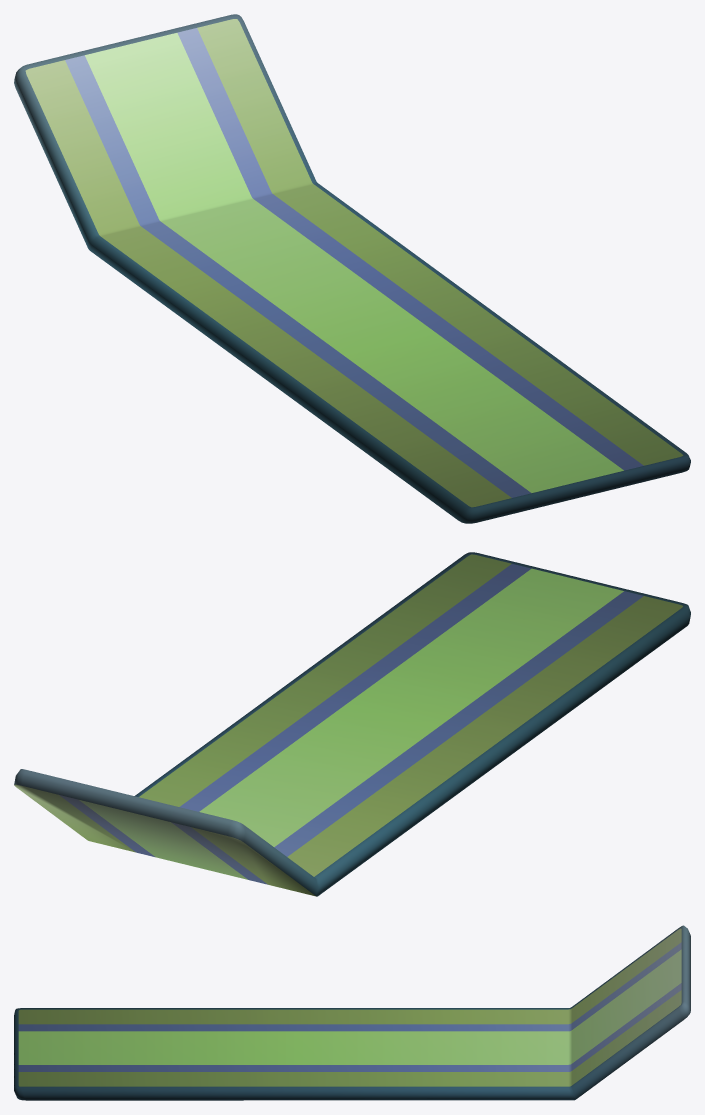
The model's file is SunLounger_MattressStripes_A.fbx.
3 views of the same model, one above another, from view 1: azimuth 30°, elevation 25°; view 2: azimuth 150°, elevation 25°; view 3: azimuth 270°, elevation 25° (orthographic). The views are drawn at different scales.
Visible parts, largest first — view 1: SunLounger_MattressStripes_A; view 2: SunLounger_MattressStripes_A; view 3: SunLounger_MattressStripes_A.
Part boxes in pixels (bbox=[...]): SunLounger_MattressStripes_A: bbox=[14, 14, 690, 523]; SunLounger_MattressStripes_A: bbox=[14, 552, 690, 896]; SunLounger_MattressStripes_A: bbox=[14, 925, 690, 1100].
Bounding box in the file's own units: 45.43 × 24.42 × 157.
